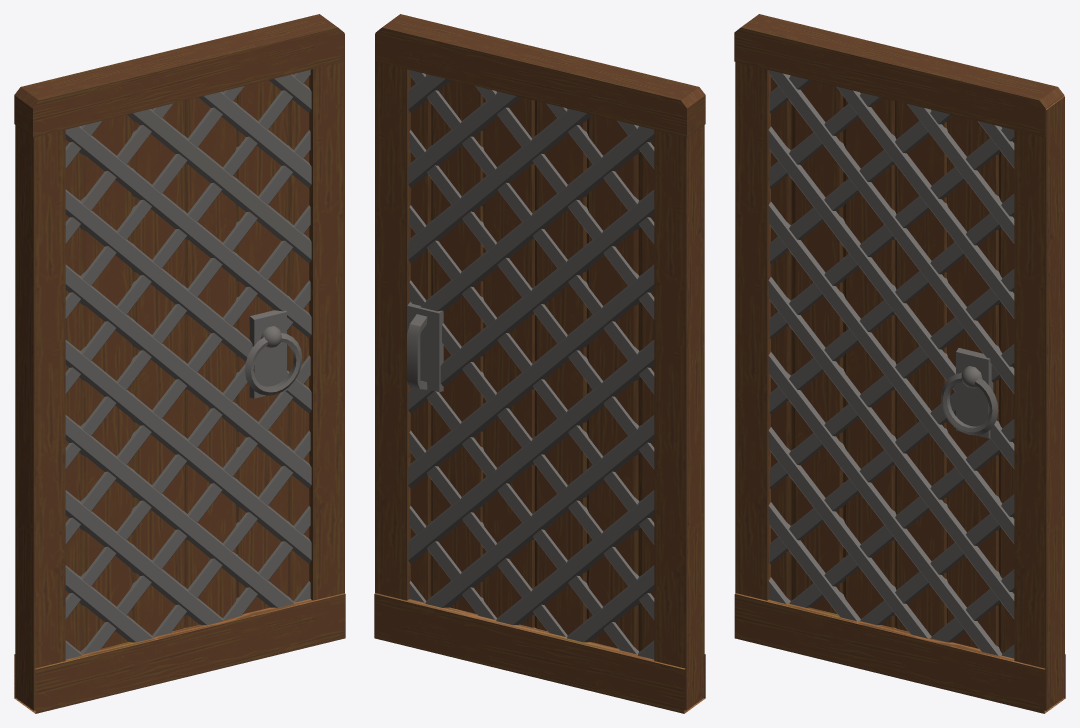
File: Door_4_Flat.gltf
3 views of the same model, side by side, from view 1: azimuth 30°, elevation 25°; view 2: azimuth 150°, elevation 25°; view 3: azimuth 330°, elevation 25° (orthographic).
Visible parts, largest first — view 1: Door_4_Flat; view 2: Door_4_Flat; view 3: Door_4_Flat.
Boxes of the visible parts, x1,y1,x2,y2 form: Door_4_Flat: (14,14,345,713); Door_4_Flat: (374,14,705,713); Door_4_Flat: (734,14,1065,713).
Size of the model in its own units: 1.12 by 2.09 by 0.2093.
Materials: 2 (1 with a texture image).
